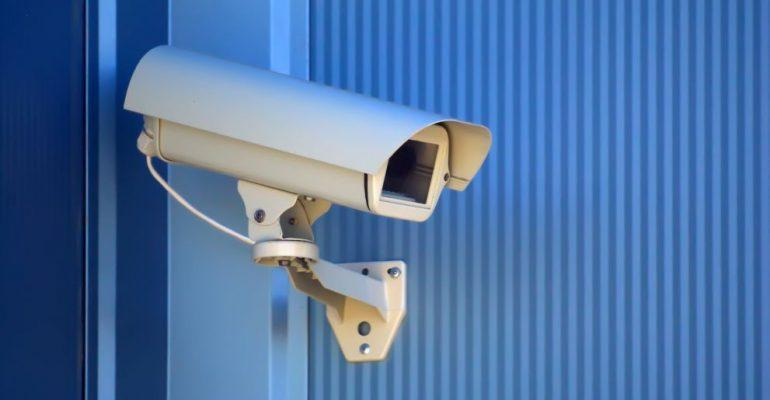camera: (118, 20, 498, 269)
